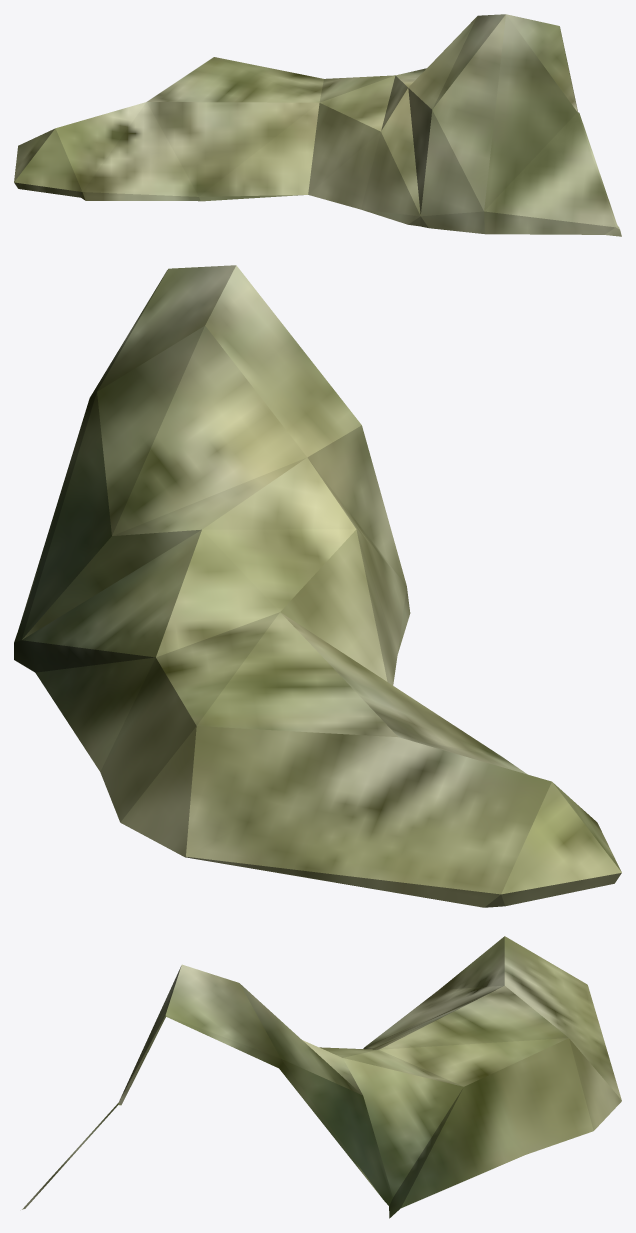
3 views of the same model, one above another, from view 1: azimuth 30°, elevation 25°; view 2: azimuth 150°, elevation 25°; view 3: azimuth 270°, elevation 25° (orthographic). The views are drawn at different scales.
Bounding box in the file's own units: 0.6796 × 0.293 × 0.7145.
1 material, 1 textured.
